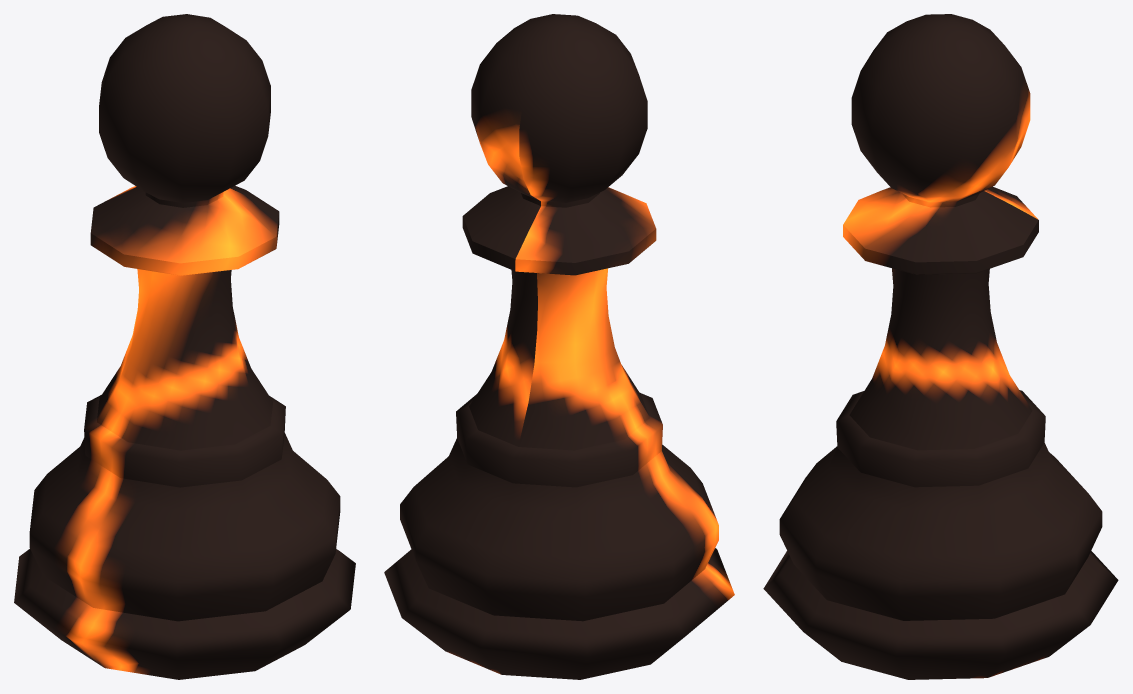
The model's file is item-0-5.glb.
3 renders of one model, left to right at view 1: azimuth 30°, elevation 25°; view 2: azimuth 150°, elevation 25°; view 3: azimuth 270°, elevation 25°, orthographic.
Visible parts, largest first — view 1: BlackPawn; view 2: BlackPawn; view 3: BlackPawn.
Boxes of the visible parts, bbox=[...] form: BlackPawn: bbox=[14, 14, 355, 679]; BlackPawn: bbox=[384, 14, 734, 679]; BlackPawn: bbox=[763, 14, 1118, 679].
Size of the model in its own units: 0.0889 by 0.1731 by 0.0918.
1 material, 1 textured.
